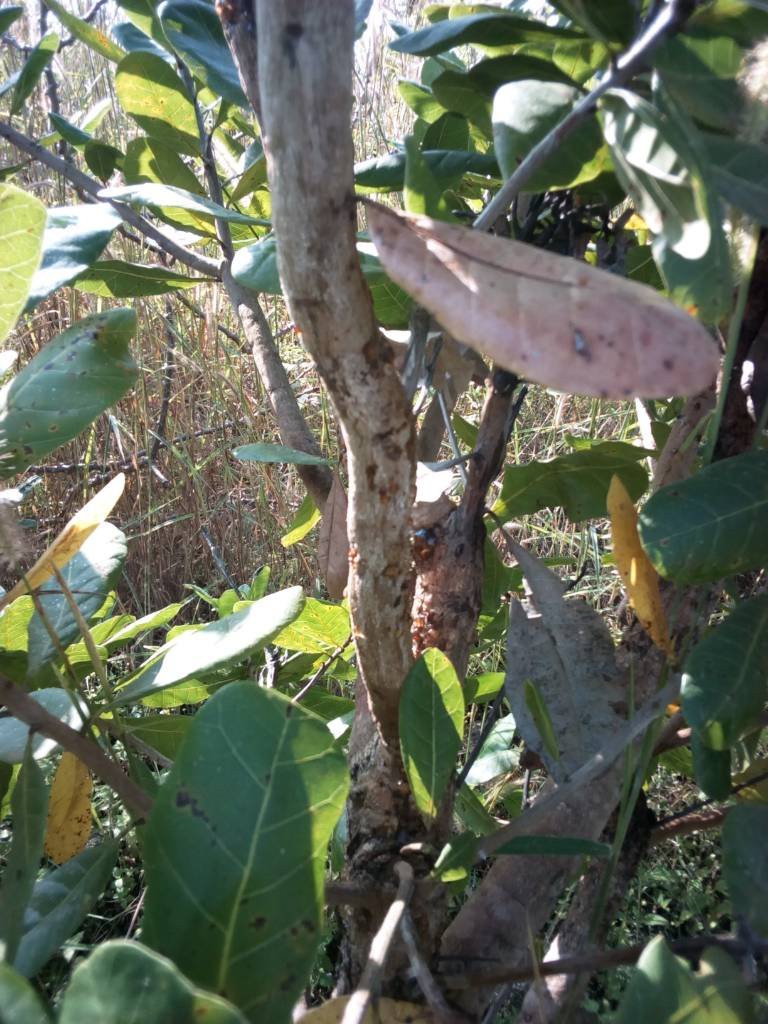Anthracnose: (141, 680, 347, 1013), (4, 300, 152, 474)
